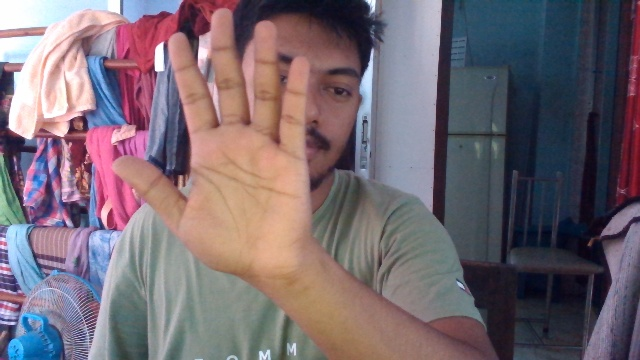hello: (110, 8, 327, 273)
